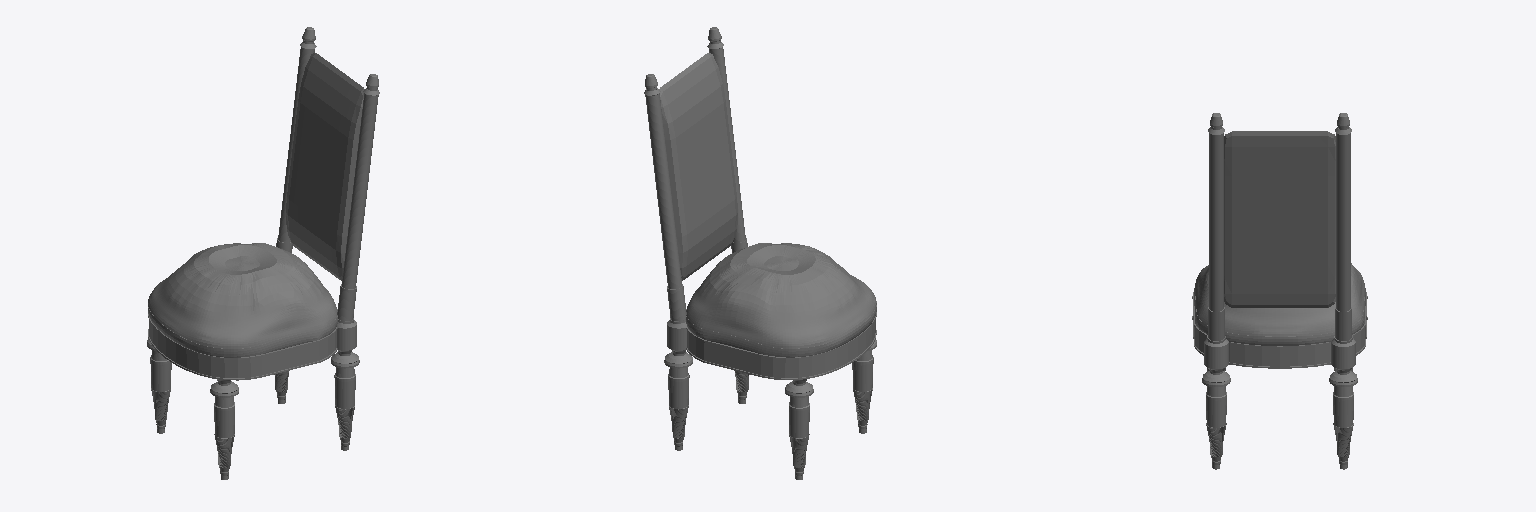
Rendered from chair.obj.
The picture shows the model from 3 angles: view 1: azimuth 30°, elevation 25°; view 2: azimuth 150°, elevation 25°; view 3: azimuth 270°, elevation 25°; orthographic projection.
Visible parts, largest first — view 1: Cylinder.004_Cylinder.014, Cylinder.002, Cylinder.000; view 2: Cylinder.004_Cylinder.014, Cylinder.002, Cylinder.000; view 3: Cylinder.002, Cylinder.004_Cylinder.014, Cylinder.000.
Boxes of the visible parts, x1,y1,x2,y2 form: Cylinder.004_Cylinder.014: [147, 27, 379, 479]; Cylinder.002: [286, 53, 364, 280]; Cylinder.000: [148, 314, 337, 380]; Cylinder.004_Cylinder.014: [644, 27, 876, 479]; Cylinder.002: [659, 53, 737, 280]; Cylinder.000: [686, 312, 876, 379]; Cylinder.002: [1224, 131, 1335, 307]; Cylinder.004_Cylinder.014: [1194, 113, 1365, 469]; Cylinder.000: [1192, 292, 1367, 368].
Bounding box in the file's own units: 6.98 × 13.42 × 5.79.